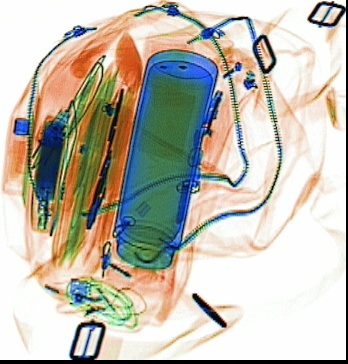powerbank: (31, 104, 66, 232)
